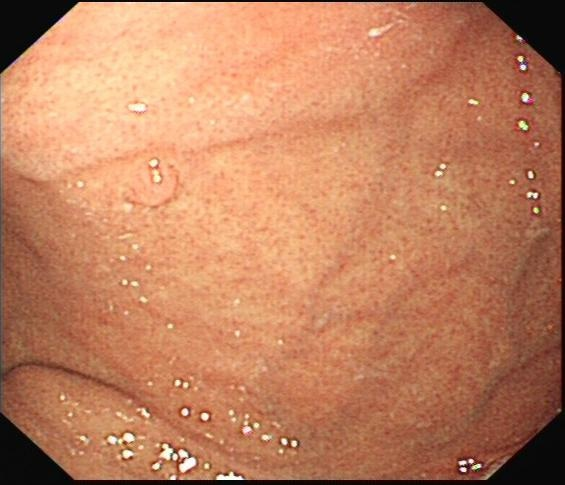Polyp: (122, 150, 182, 212)
